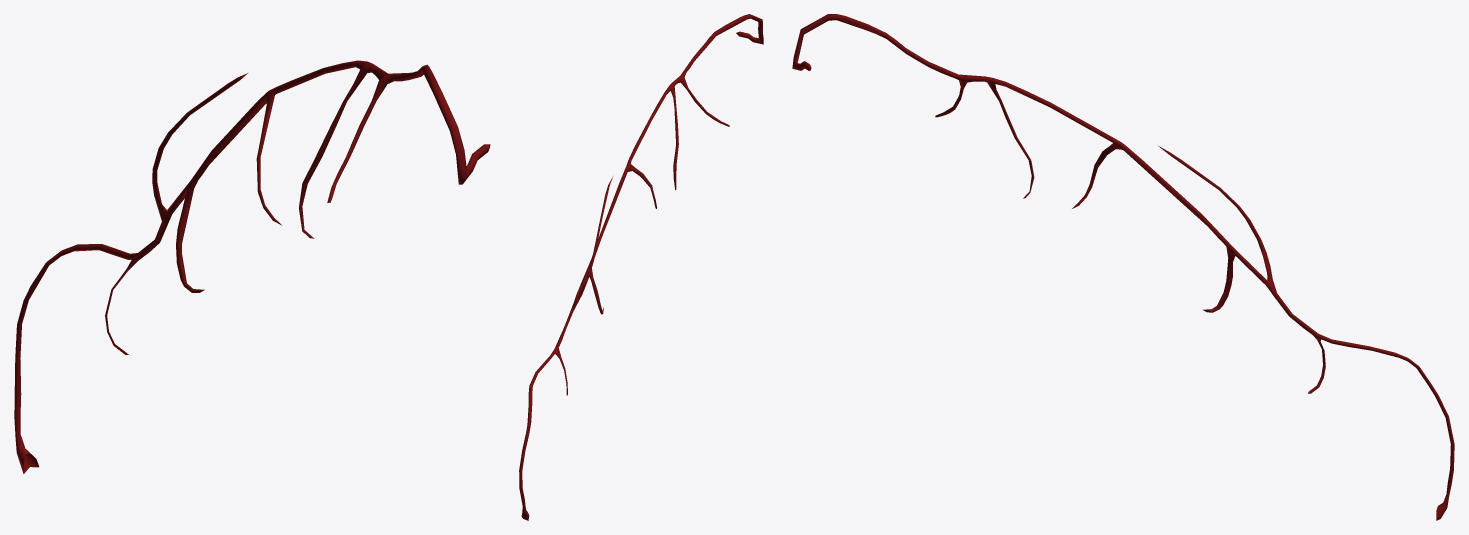
File: R arteria cervicalis profunda.fbx
3 renders of one model, left to right at view 1: azimuth 30°, elevation 25°; view 2: azimuth 150°, elevation 25°; view 3: azimuth 270°, elevation 25°, orthographic. The views are drawn at different scales.
Visible parts, largest first — view 1: R arteria cervicalis profunda, R arteria cervicalis profunda low; view 2: R arteria cervicalis profunda, R arteria cervicalis profunda low; view 3: R arteria cervicalis profunda, R arteria cervicalis profunda low.
Part boxes in pixels (x1,y1,x2,y2): R arteria cervicalis profunda: [14, 60, 490, 473]; R arteria cervicalis profunda low: [14, 64, 488, 471]; R arteria cervicalis profunda: [519, 14, 763, 520]; R arteria cervicalis profunda low: [519, 16, 763, 520]; R arteria cervicalis profunda: [792, 14, 1454, 520]; R arteria cervicalis profunda low: [794, 14, 1453, 518].
Bounding box in the file's own units: 3.27 × 26.48 × 31.77.
